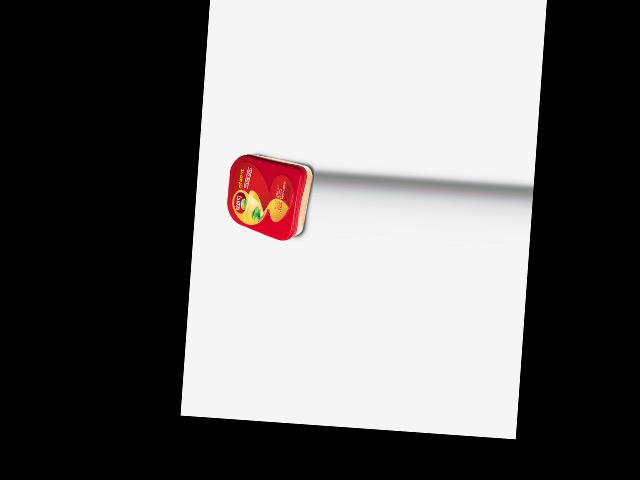cheese: (224, 152, 313, 242)
